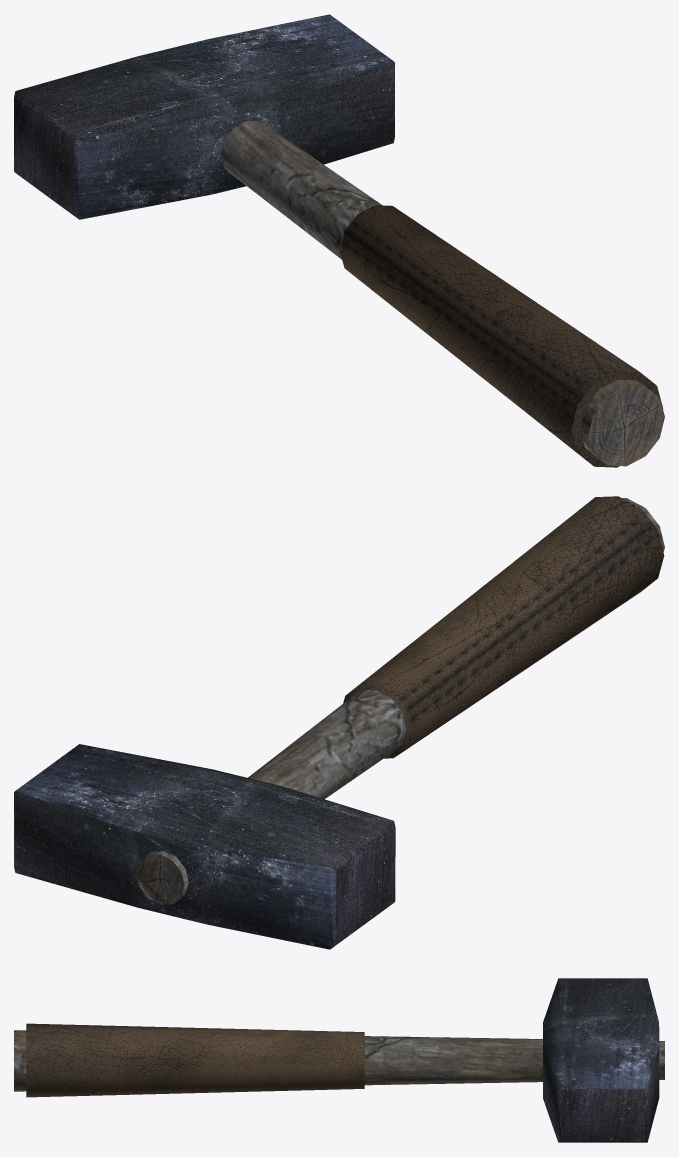
Rendered from hammer.obj.
The picture shows the model from 3 angles, top to bottom: view 1: azimuth 30°, elevation 25°; view 2: azimuth 150°, elevation 25°; view 3: azimuth 270°, elevation 25°; orthographic projection. The views are drawn at different scales.
Visible parts, largest first — view 1: skin; view 2: skin; view 3: skin.
Boxes of the visible parts, box(x1,y1,x2,y2) form: skin: box(14, 14, 664, 467); skin: box(14, 496, 664, 949); skin: box(14, 978, 664, 1142).
Size of the model in its own units: 0.504 by 0.1441 by 1.27.
Materials: 1 (1 with a texture image).
